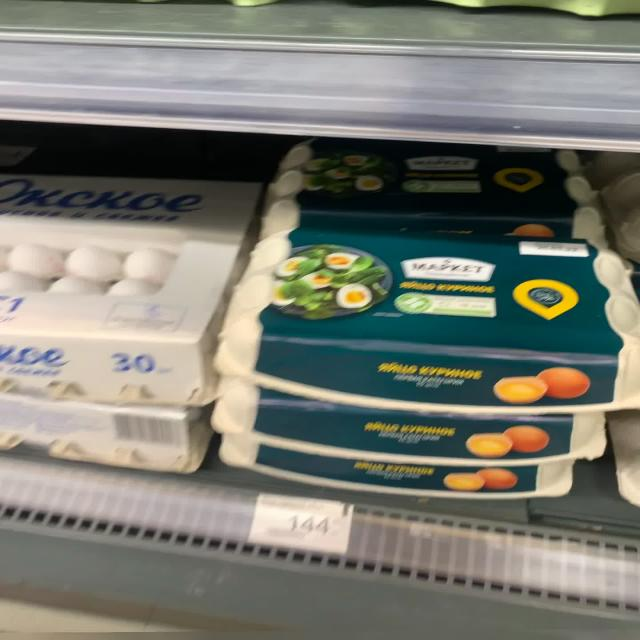egg box: (204, 243, 634, 413), (195, 380, 608, 465), (254, 155, 605, 238), (204, 431, 574, 497)
